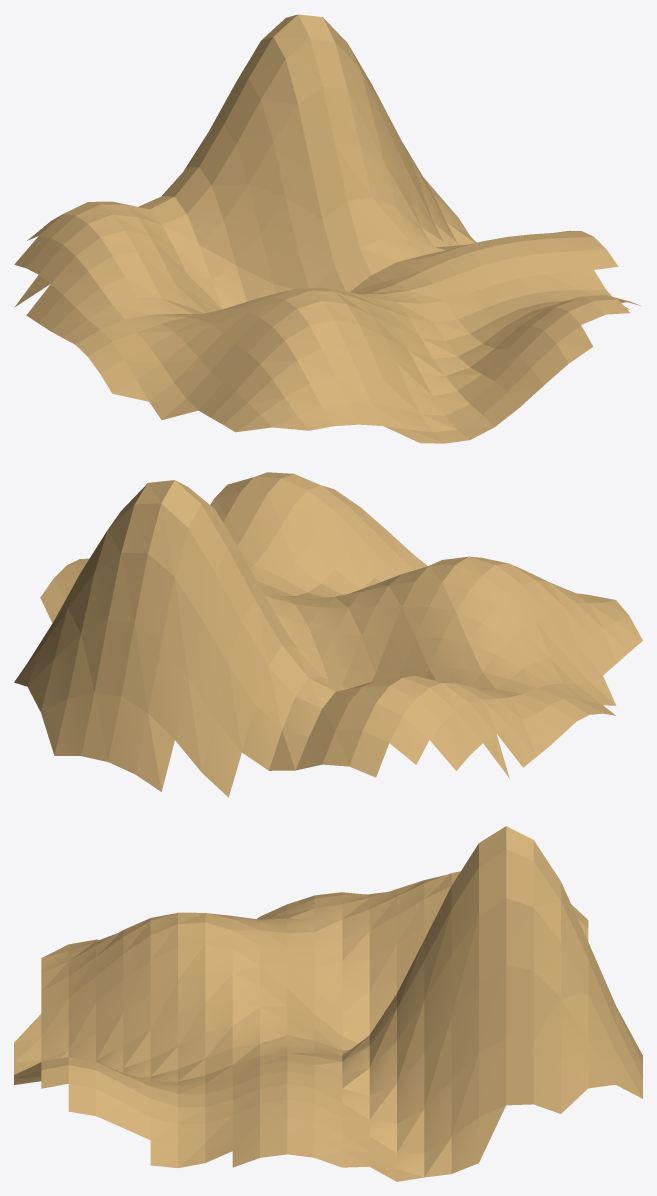
File: areba2.fbx
3 renders of one model, top to bottom at view 1: azimuth 30°, elevation 25°; view 2: azimuth 150°, elevation 25°; view 3: azimuth 270°, elevation 25°, orthographic. The views are drawn at different scales.
Parts seen in each view (by area): view 1: Group2; view 2: Group2; view 3: Group2.
Part boxes in pixels (<box>): Group2: <box>14,14,641,443</box>; Group2: <box>14,472,642,797</box>; Group2: <box>14,826,642,1181</box>.
Bounding box in the file's own units: 90 × 43.83 × 89.18.
